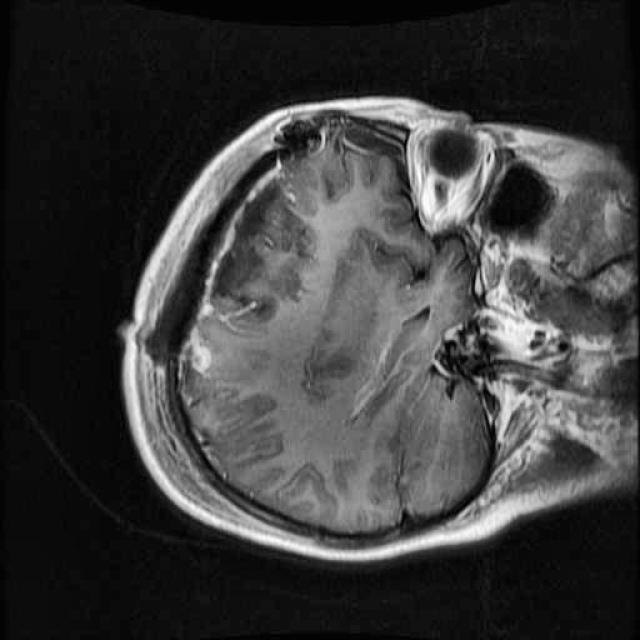Tumor: (198, 170, 328, 332)
